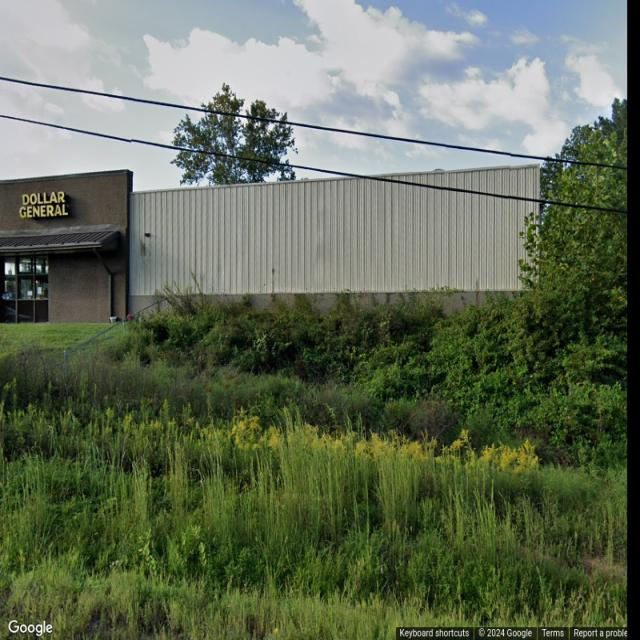House: (0, 168, 540, 323)
